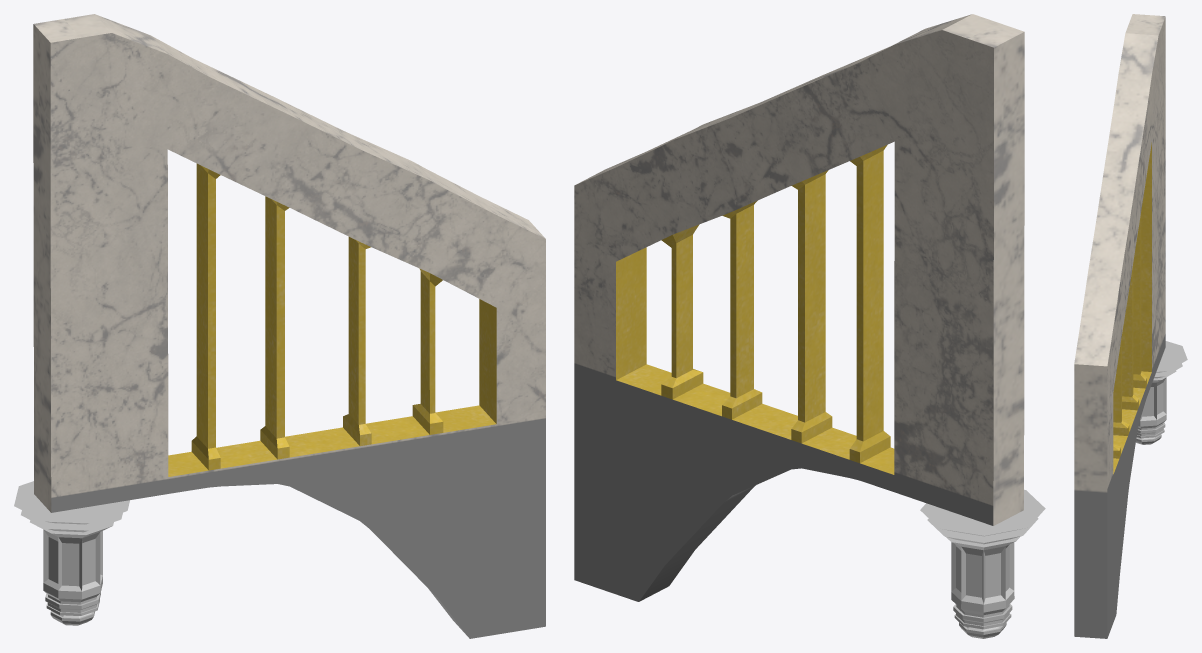
File: Hall Lanturn.fbx
The picture shows the model from 3 angles, left to right: view 1: azimuth 30°, elevation 25°; view 2: azimuth 150°, elevation 25°; view 3: azimuth 270°, elevation 25°; orthographic projection. The views are drawn at different scales.
Parts seen in each view (by area): view 1: pCube359, pCylinder115; view 2: pCube359, pCylinder115; view 3: pCube359, pCylinder115.
Part boxes in pixels (bbox=[...]): pCube359: bbox=[33, 14, 545, 638]; pCylinder115: bbox=[14, 481, 129, 625]; pCube359: bbox=[574, 14, 1024, 601]; pCylinder115: bbox=[920, 489, 1045, 638]; pCube359: bbox=[1074, 14, 1165, 638]; pCylinder115: bbox=[1136, 341, 1187, 444].
Bounding box in the file's own units: 11.6 × 15.32 × 3.38.
